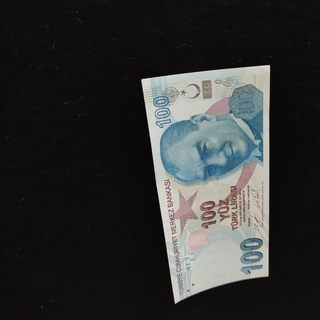100TLFront: (140, 64, 271, 305)
